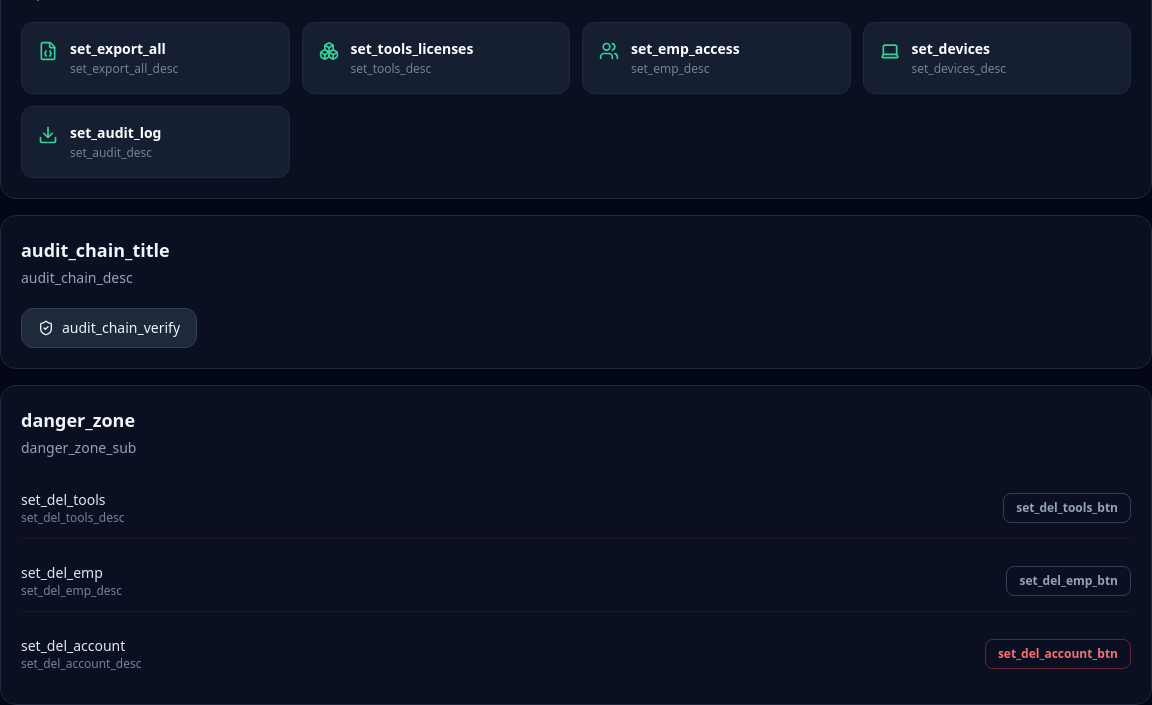
Scenario: deleting an account from Settings → Data › opens a confirmation instead of doing anything
This screenshot has width=1152, height=705.
(page scrolled)
What coordinates should you click on to do the following:
click the button "set_del_account_btn"
I would click on:
 (1058, 654)
Its box is [985,639,1131,669].
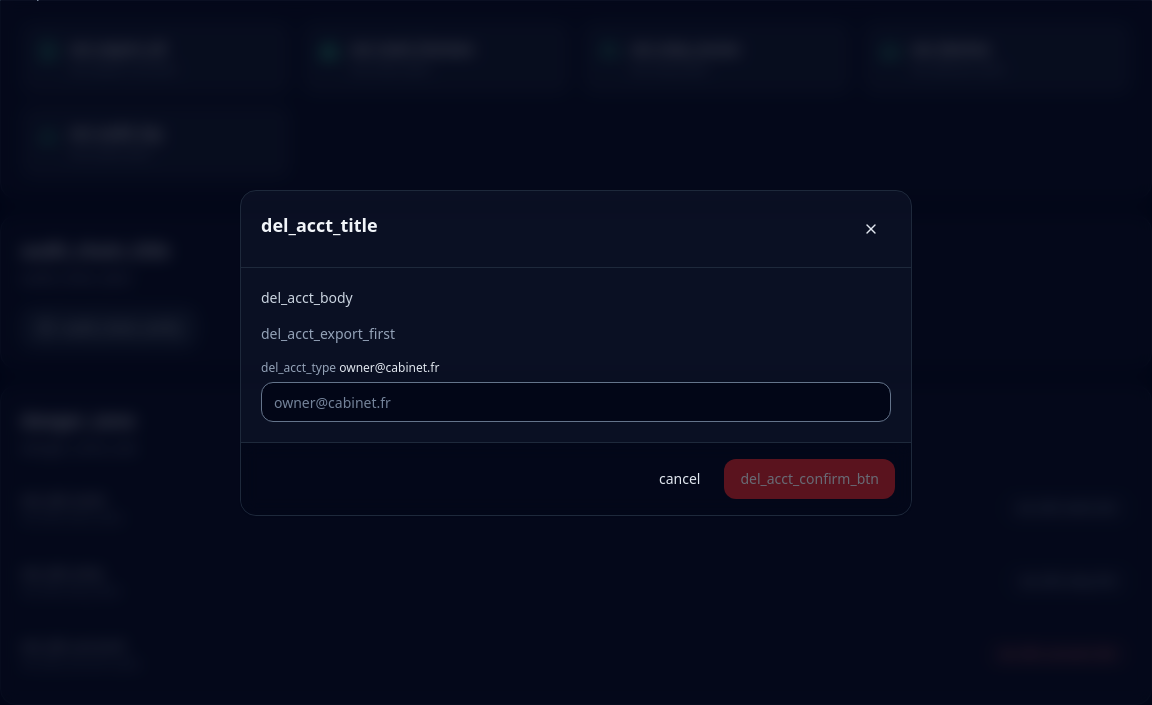
Expected: the text "del_acct_title" is shown, [261,211,378,239]
